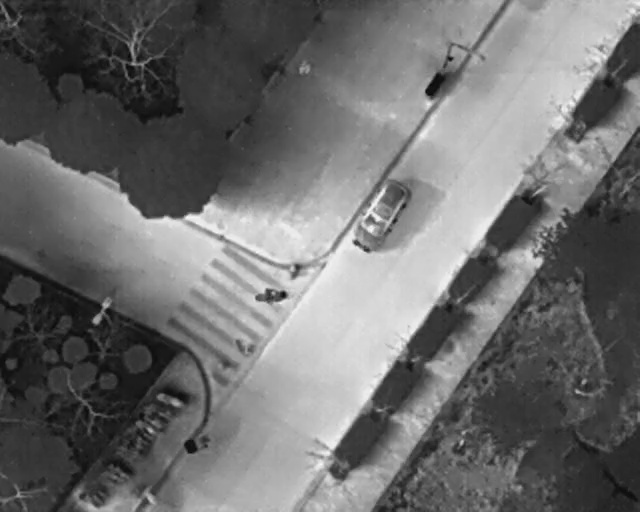Bicycle: (153, 389, 183, 411), (251, 288, 290, 303)
Car: (346, 174, 416, 257)
Person: (299, 57, 313, 75)
